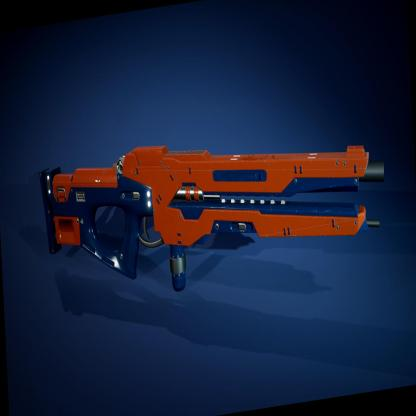rifle: (26, 93, 387, 327)
